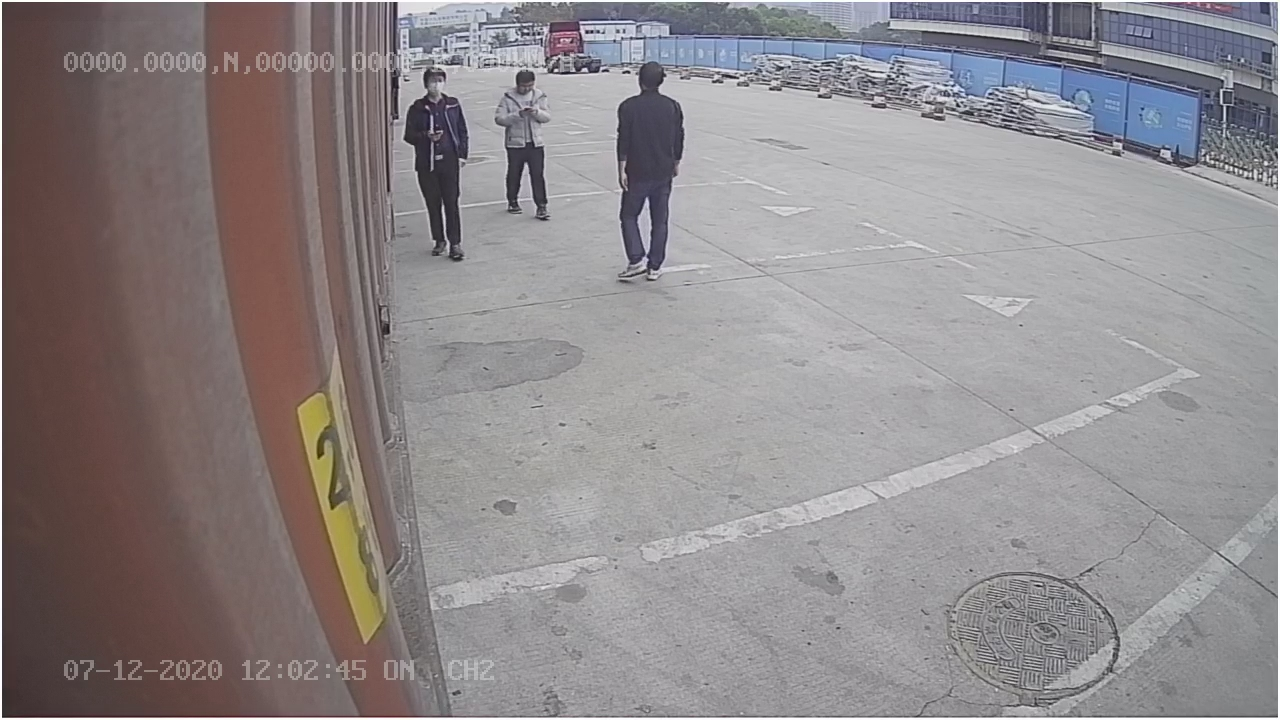person: (613, 59, 684, 286)
